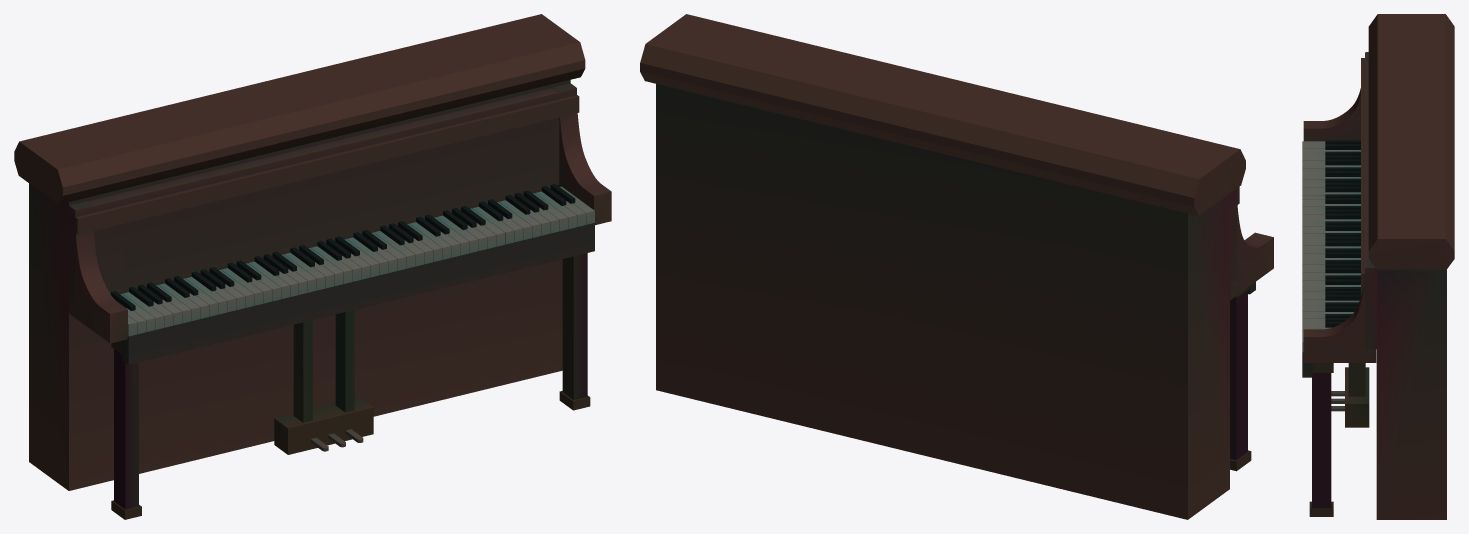
3 views of the same model, side by side, from view 1: azimuth 30°, elevation 25°; view 2: azimuth 150°, elevation 25°; view 3: azimuth 270°, elevation 25° (orthographic). The views are drawn at different scales.
Parts seen in each view (by area): view 1: case, lid, key_bed, foot, foot.001, curved_cheek, pedal_block, curved_cheek.001, pedal_upright.001, pedal_upright.002; view 2: case, lid, foot, curved_cheek; view 3: lid, case, foot.001, curved_cheek.001, curved_cheek, pedal_block, pedal_upright.002, dark_key.004, dark_key.009, dark_key.014, dark_key.019, dark_key.024 (+14 smaller).
Part boxes in pixels (x1,y1,x2,y2): case: (29,80,579,490); lid: (14,14,585,204); key_bed: (122,223,594,364); foot: (111,340,141,519); foot.001: (559,253,590,410); curved_cheek: (69,201,127,343); pedal_block: (274,397,373,454); curved_cheek.001: (553,83,611,225); pedal_upright.001: (293,320,312,422); pedal_upright.002: (335,310,354,412); case: (656,84,1239,519); lid: (640,14,1245,216); foot: (1230,287,1251,471); curved_cheek: (1230,205,1273,300); lid: (1368,14,1454,269); case: (1361,52,1446,519); foot.001: (1309,363,1333,516); curved_cheek.001: (1303,260,1376,362); curved_cheek: (1303,52,1368,141); pedal_block: (1345,367,1369,427); pedal_upright.002: (1348,363,1365,396); dark_key.004: (1325,159,1360,165); dark_key.009: (1325,186,1360,192); dark_key.014: (1325,213,1360,219); dark_key.019: (1325,240,1360,246); dark_key.024: (1325,267,1360,273).
Bounding box in the file's own units: 1.5 × 0.903 × 0.4295.
